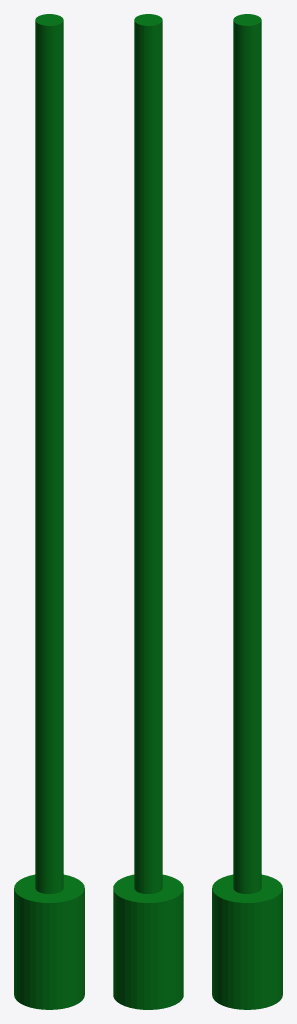
Rendered from rosebud.dae.
The picture shows the model from 3 angles, left to right: view 1: azimuth 90°, elevation 25°; view 2: azimuth 150°, elevation 25°; view 3: azimuth 270°, elevation 25°; orthographic projection.
Visible parts, largest first — view 1: Circle; view 2: Circle; view 3: Circle.
Part boxes in pixels (x1=…): Circle: x1=14, y1=14, x2=84, y2=1009; Circle: x1=113, y1=14, x2=183, y2=1009; Circle: x1=212, y1=14, x2=282, y2=1009.
Bounding box in the file's own units: 0.06 × 0.06 × 0.912.
